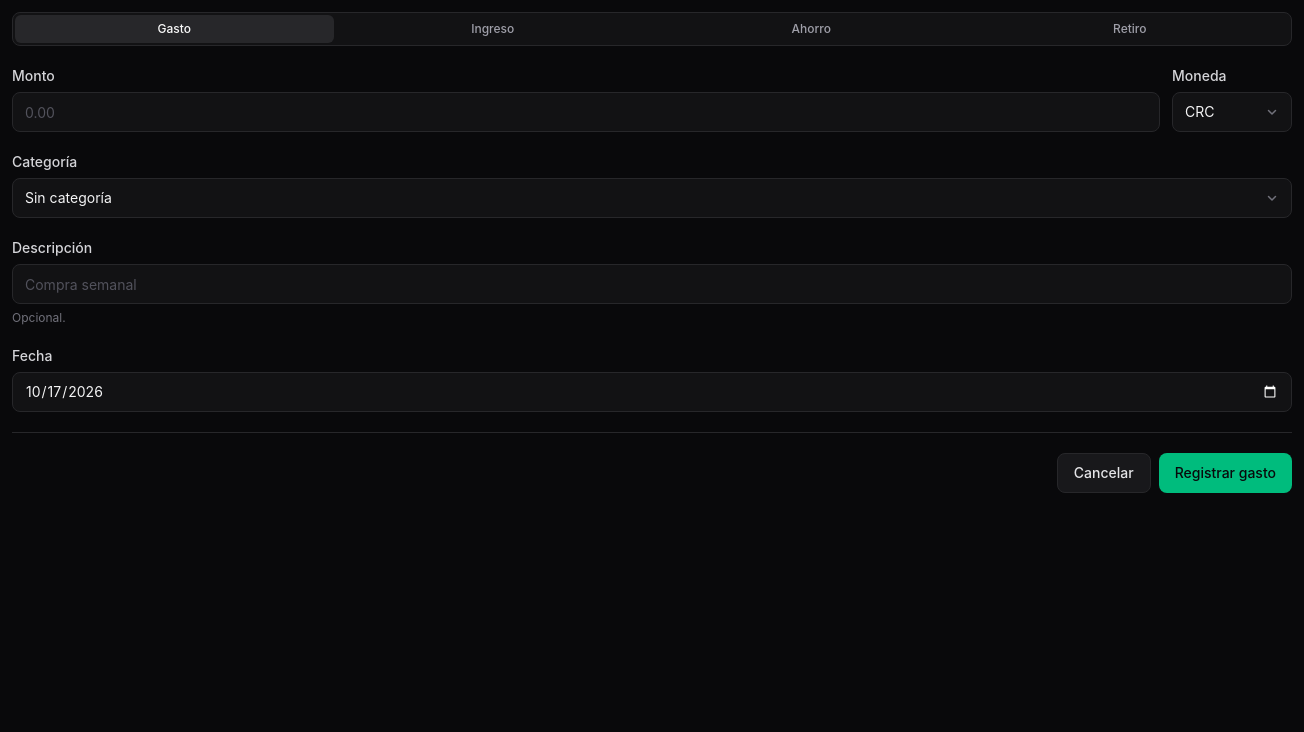
Test: TransactionForm › valida el monto antes de enviar
The width and height of the screenshot is (1304, 732).
Type "1.250,50" into the field labelled "Monto". click: (586, 112)
box: [12,92,1160,132]
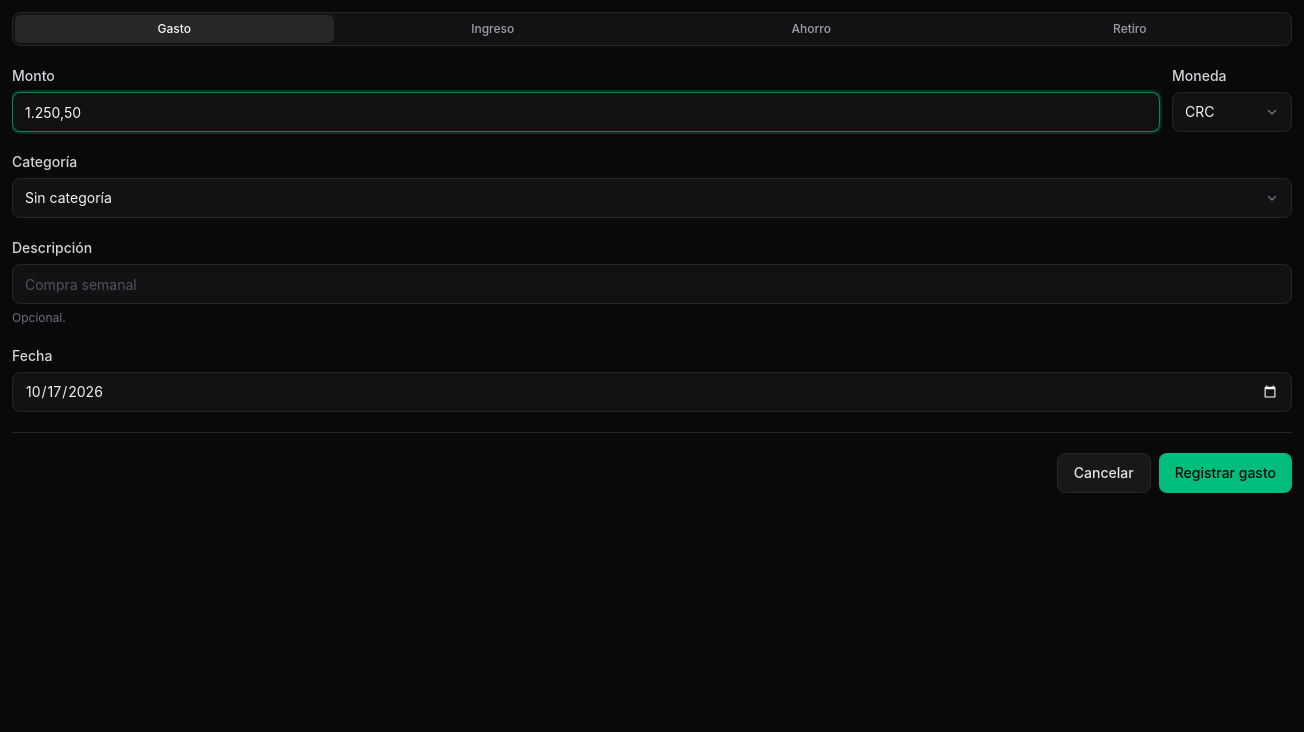
Click the button "Registrar gasto". click: (1225, 473)
box: [1159,453,1292,493]
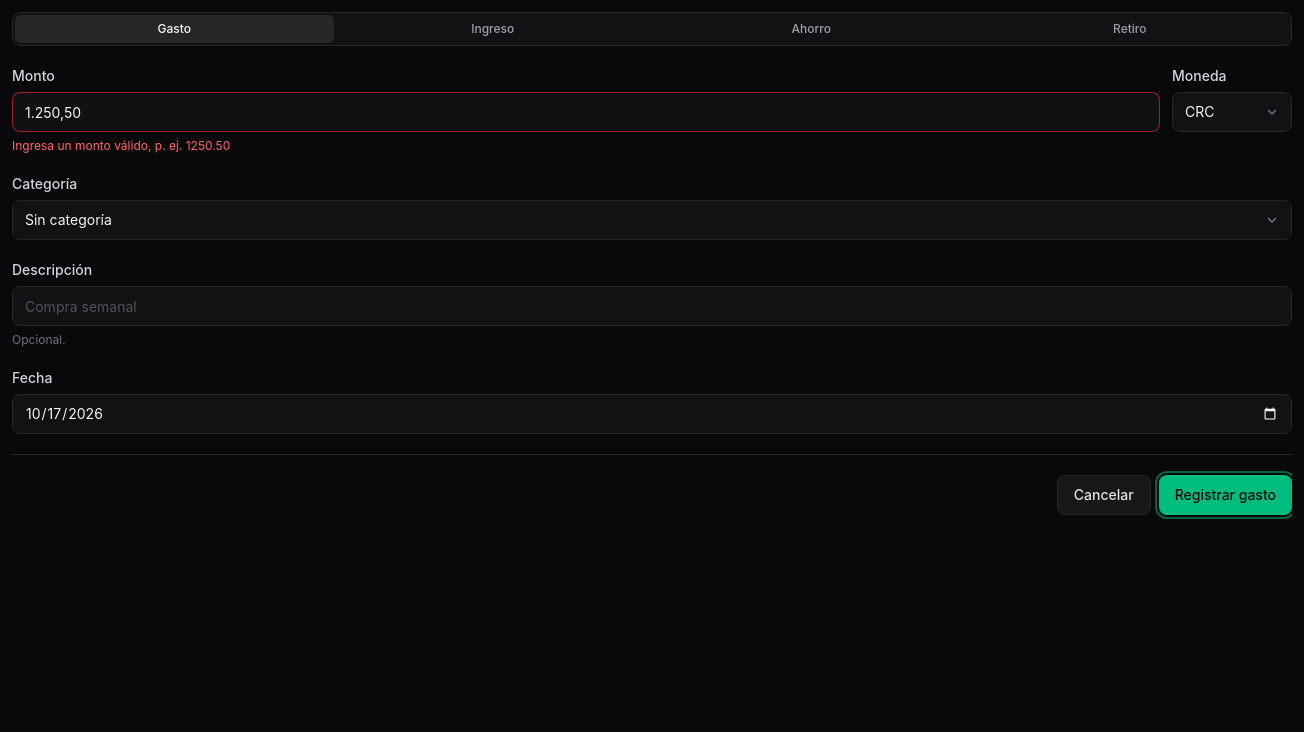
expect the text "Ingresa un monto válido, p. ej. 1250.50" is shown: met, box [12,138,230,153]
